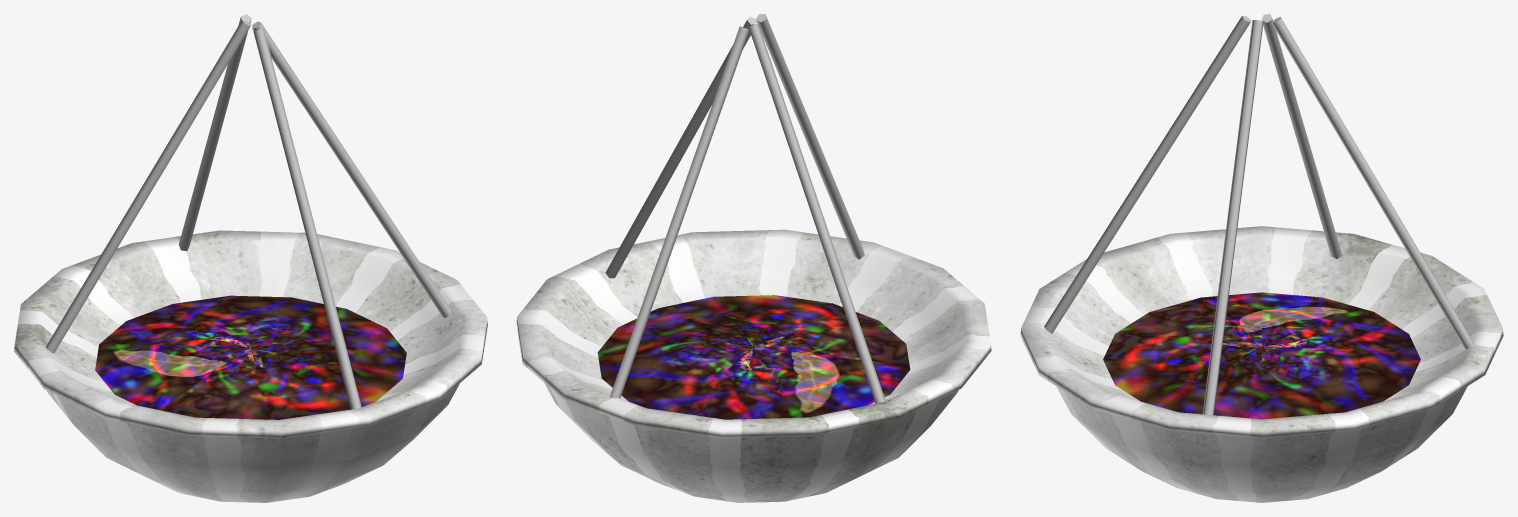
Rendered from hanging_basket_SM.fbx.
The picture shows the model from 3 angles, left to right: view 1: azimuth 30°, elevation 25°; view 2: azimuth 150°, elevation 25°; view 3: azimuth 270°, elevation 25°; orthographic projection.
Visible parts, largest first — view 1: hanging_basket_SM_LOD0; view 2: hanging_basket_SM_LOD0; view 3: hanging_basket_SM_LOD0.
Boxes of the visible parts, <box> form: hanging_basket_SM_LOD0: <box>14,14,487,502</box>; hanging_basket_SM_LOD0: <box>516,14,991,502</box>; hanging_basket_SM_LOD0: <box>1020,14,1503,502</box>.
Size of the model in its own units: 113 by 113 by 119.
3 materials, 2 textured.
